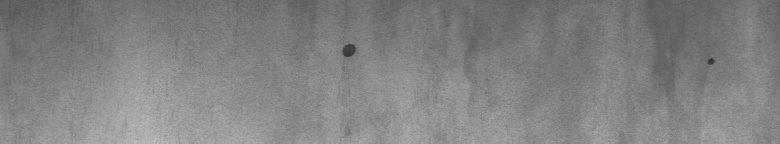fi: (337, 38, 361, 64)
